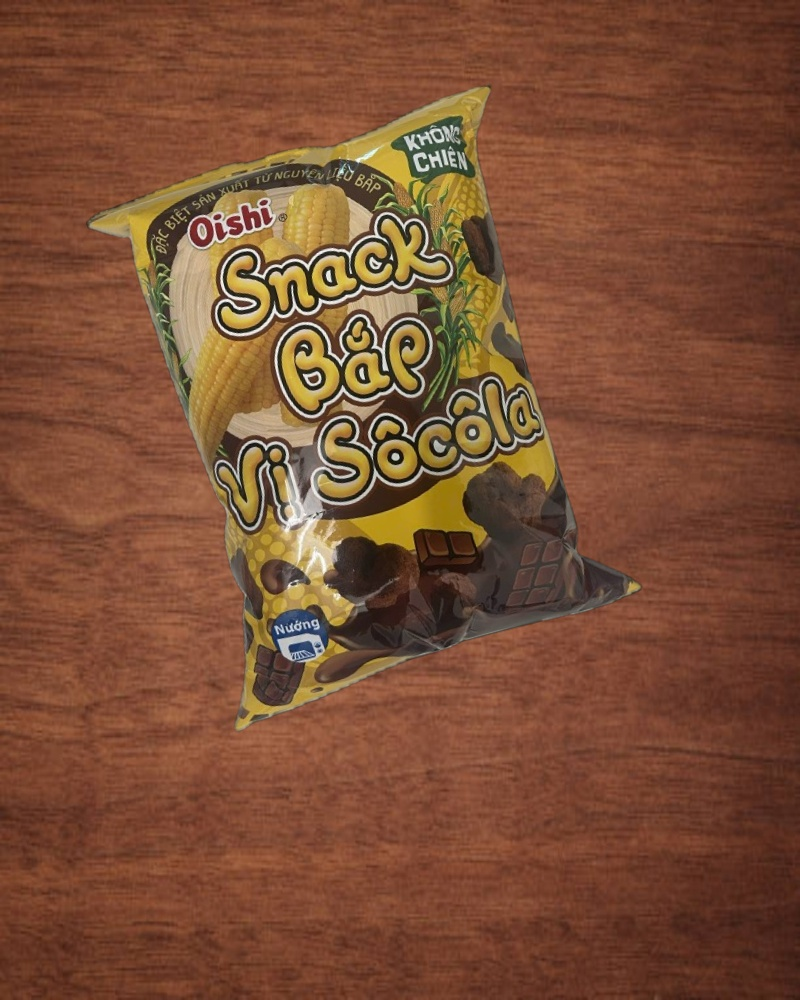Snack socola: (82, 83, 649, 723)
